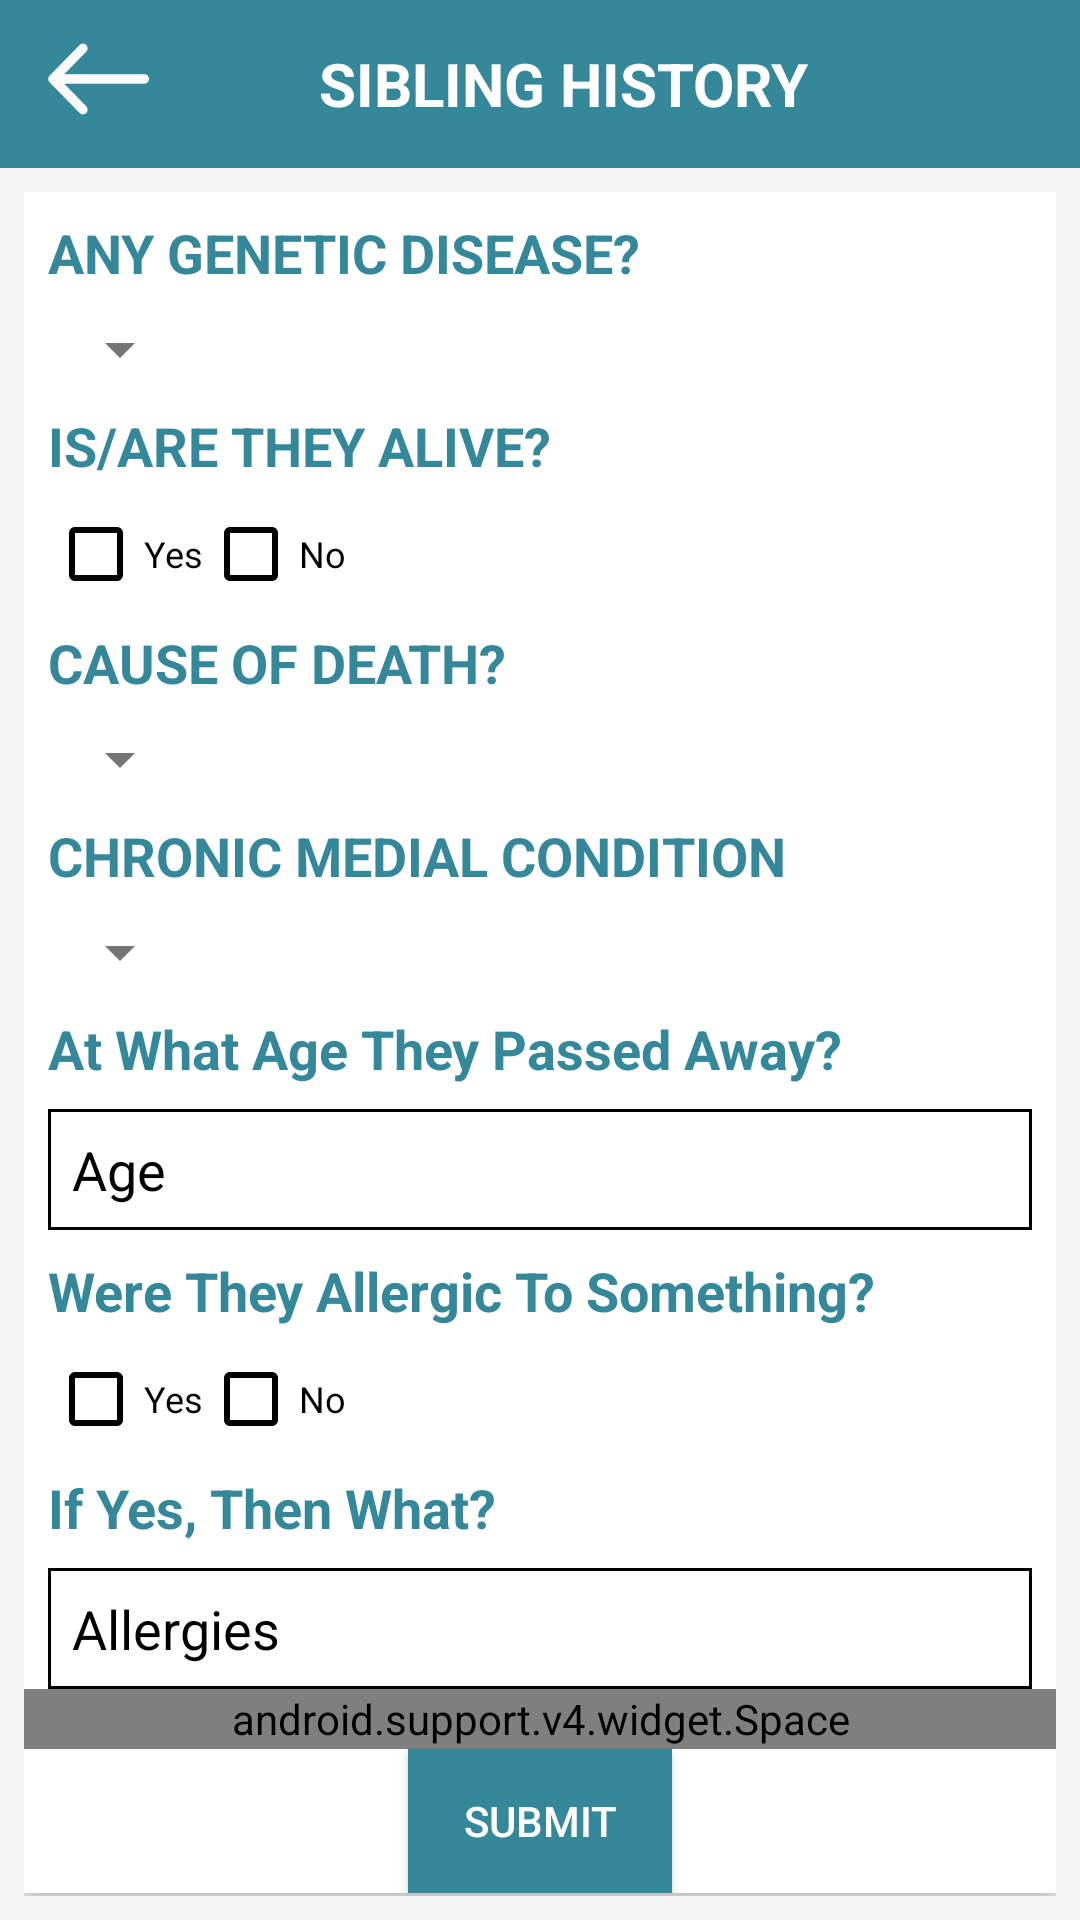

Point at icon controls on the screen. Image size 1080x1920, points as (x=x, y=y).
Back Button: (x=98, y=79)
